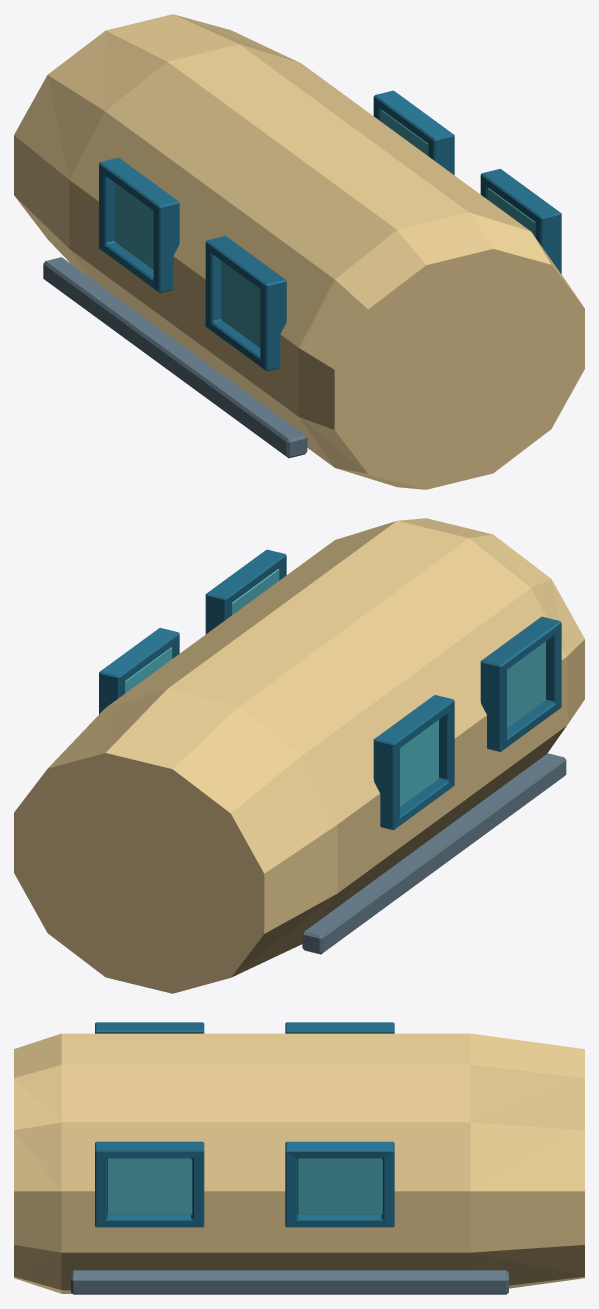
The model's file is EA_FuselageCabin.fbx.
The picture shows the model from 3 angles, top to bottom: view 1: azimuth 30°, elevation 25°; view 2: azimuth 150°, elevation 25°; view 3: azimuth 270°, elevation 25°; orthographic projection. The views are drawn at different scales.
Parts seen in each view (by area): view 1: EA_FuselageCabin; view 2: EA_FuselageCabin; view 3: EA_FuselageCabin.
Boxes of the visible parts, bbox=[...] form: EA_FuselageCabin: bbox=[14, 14, 584, 489]; EA_FuselageCabin: bbox=[14, 518, 584, 993]; EA_FuselageCabin: bbox=[14, 1022, 584, 1294].
Bounding box in the file's own units: 0.64 × 0.5313 × 1.2.
